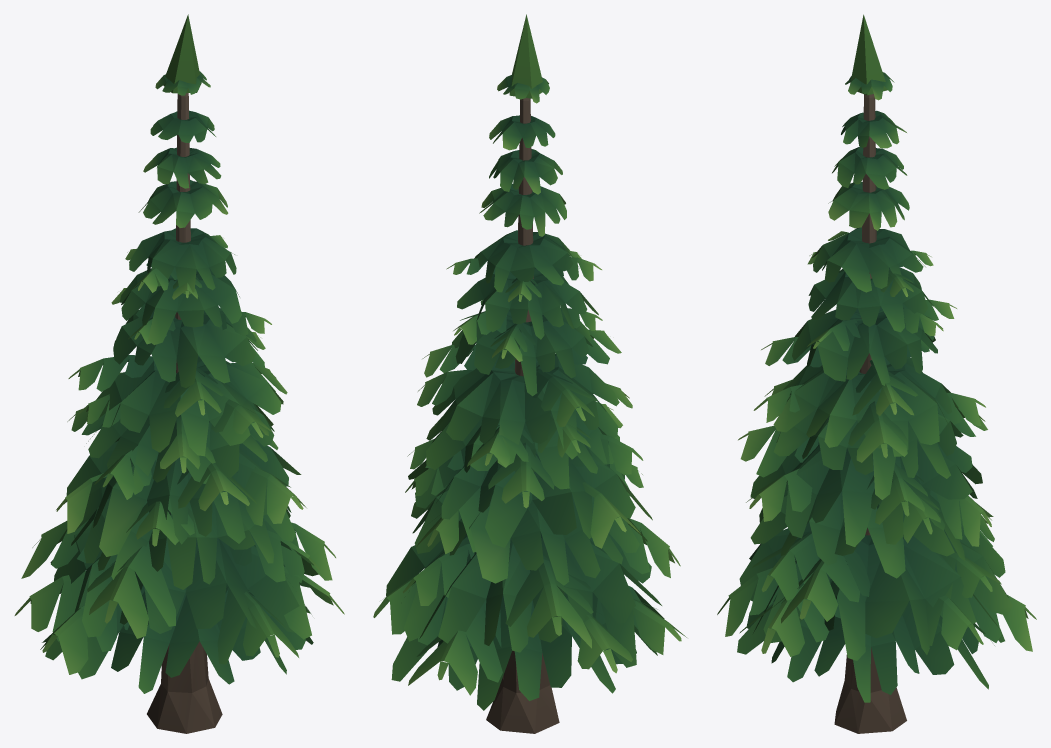
The model's file is spruce_M_slim_std_s27.glb.
3 views of the same model, side by side, from view 1: azimuth 30°, elevation 25°; view 2: azimuth 150°, elevation 25°; view 3: azimuth 270°, elevation 25° (orthographic).
Parts seen in each view (by area): view 1: Tree; view 2: Tree; view 3: Tree.
Boxes of the visible parts, x1,y1,x2,y2 form: Tree: [14, 14, 344, 733]; Tree: [373, 14, 686, 733]; Tree: [717, 14, 1036, 733].
Size of what is drawn, in the model's own units: 2.44 by 5.98 by 2.46.
